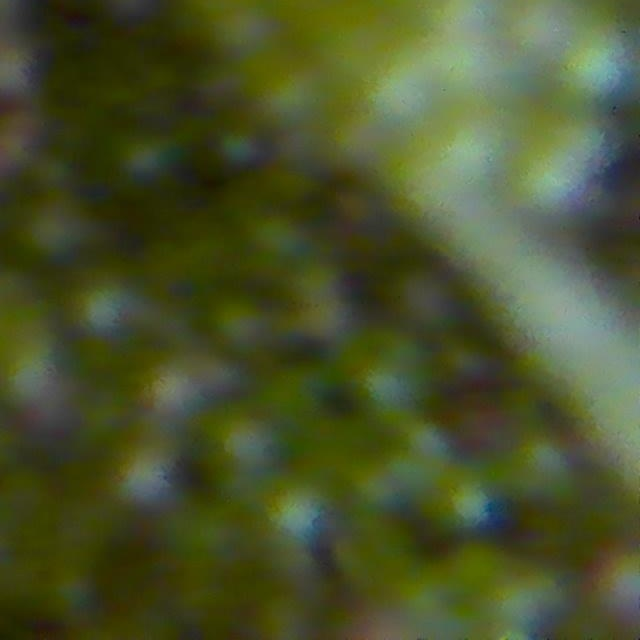SeaGrape: (507, 120, 606, 220), (423, 106, 512, 193), (556, 24, 634, 105), (252, 58, 333, 133), (0, 331, 66, 416), (19, 192, 96, 264), (503, 433, 577, 507), (261, 475, 333, 551), (210, 412, 283, 479), (74, 276, 143, 342), (111, 443, 177, 512), (210, 294, 274, 359), (595, 548, 639, 633), (114, 131, 175, 186)
